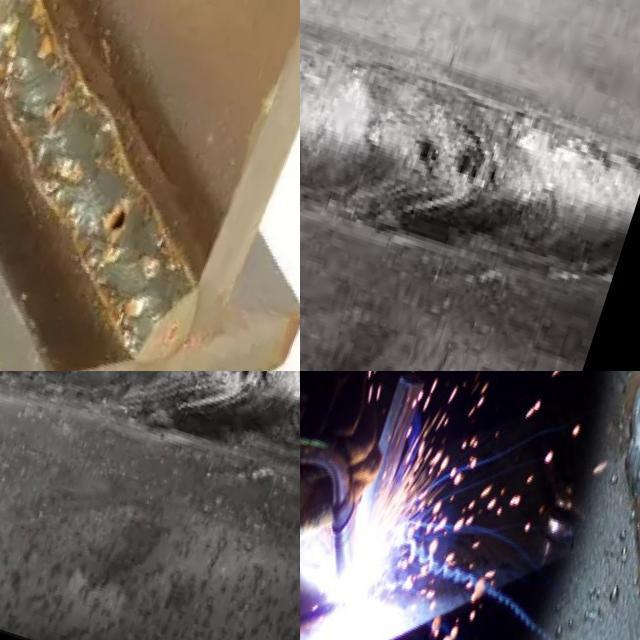defect: (457, 134, 503, 189), (415, 122, 447, 179), (224, 371, 270, 388), (108, 201, 129, 233), (48, 93, 68, 122)
